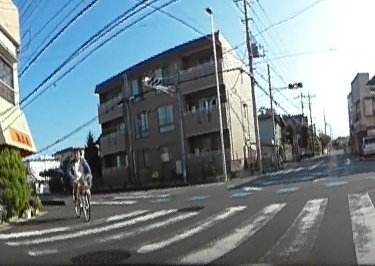person: (68, 146, 89, 201)
